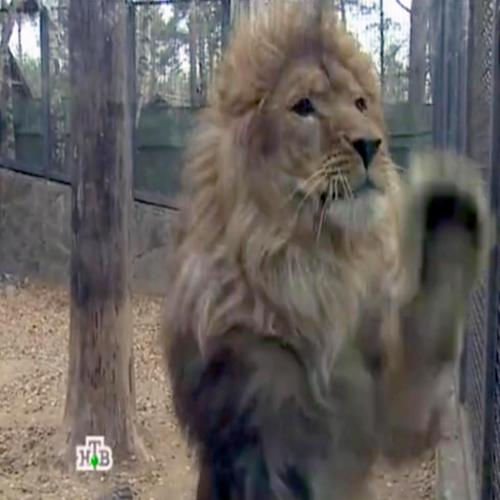lion-endangered: (158, 6, 479, 500)
